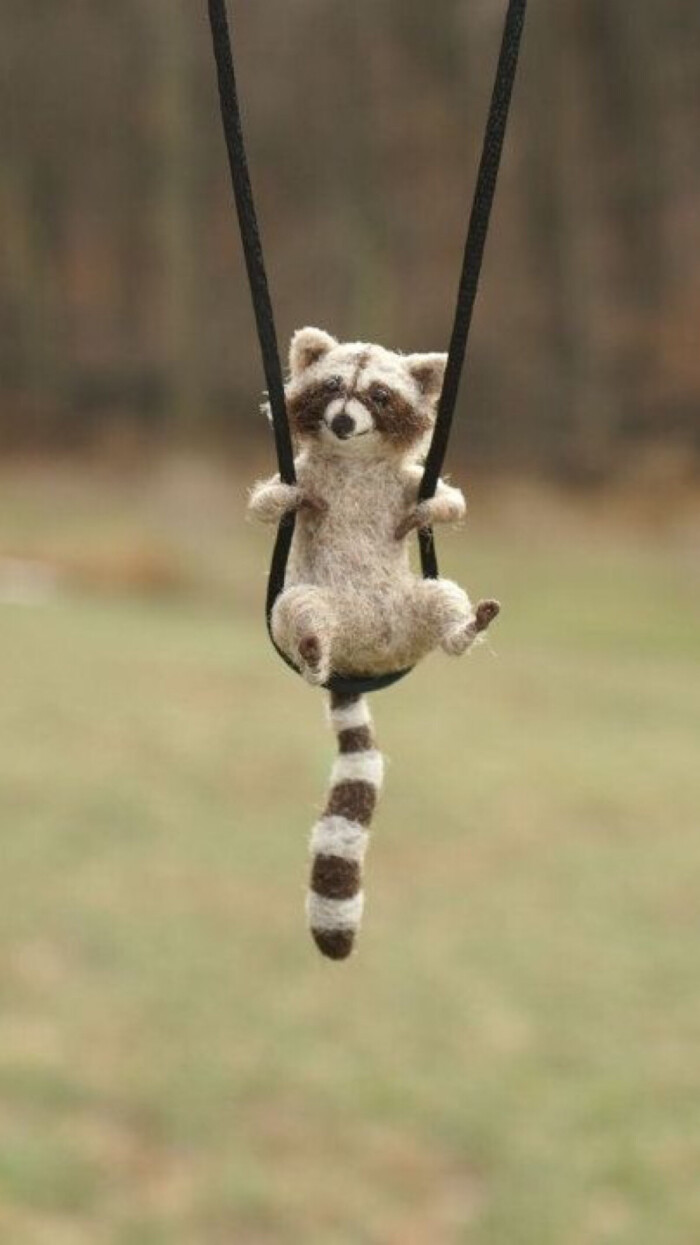raccoon: (208, 305, 538, 973)
